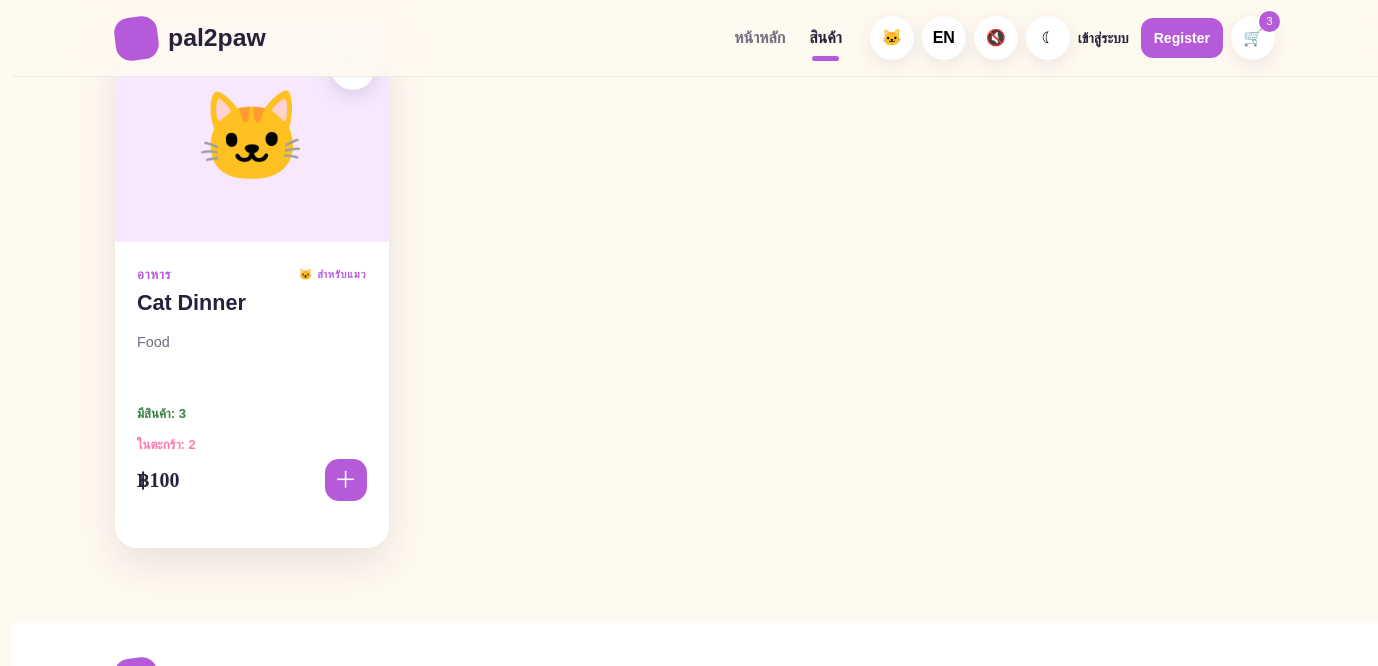
Test case: preserves duplicate cart entries, clamps stock, and updates product controls and badge
This screenshot has width=1378, height=666.
(page scrolled)
Click the button named "เพิ่ม Cat Dinner ลงตะกร้า" at (346, 480), box [324,459,366,501]
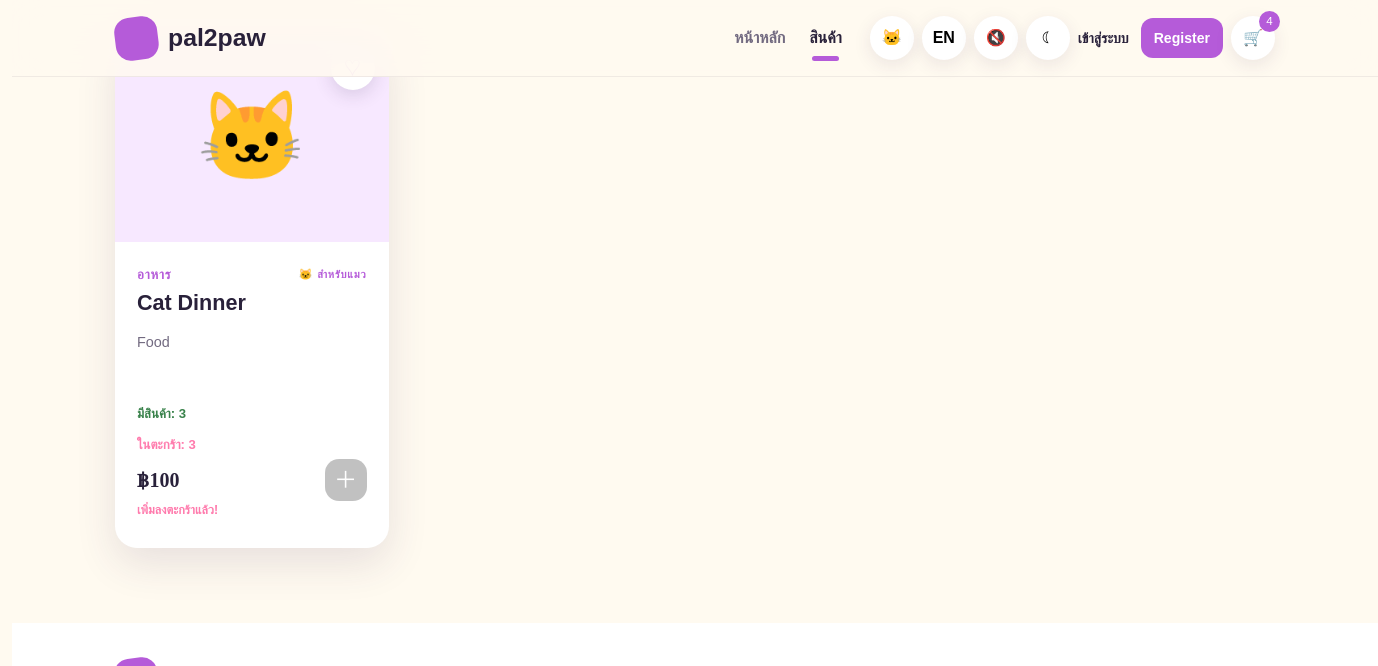
Now the button named "เพิ่ม Cat Dinner ลงตะกร้า" is disabled, box [324,459,366,501]
Now the text named "สินค้าในตะกร้า 4 ชิ้น" reads "4", box [1266,15,1273,27]
